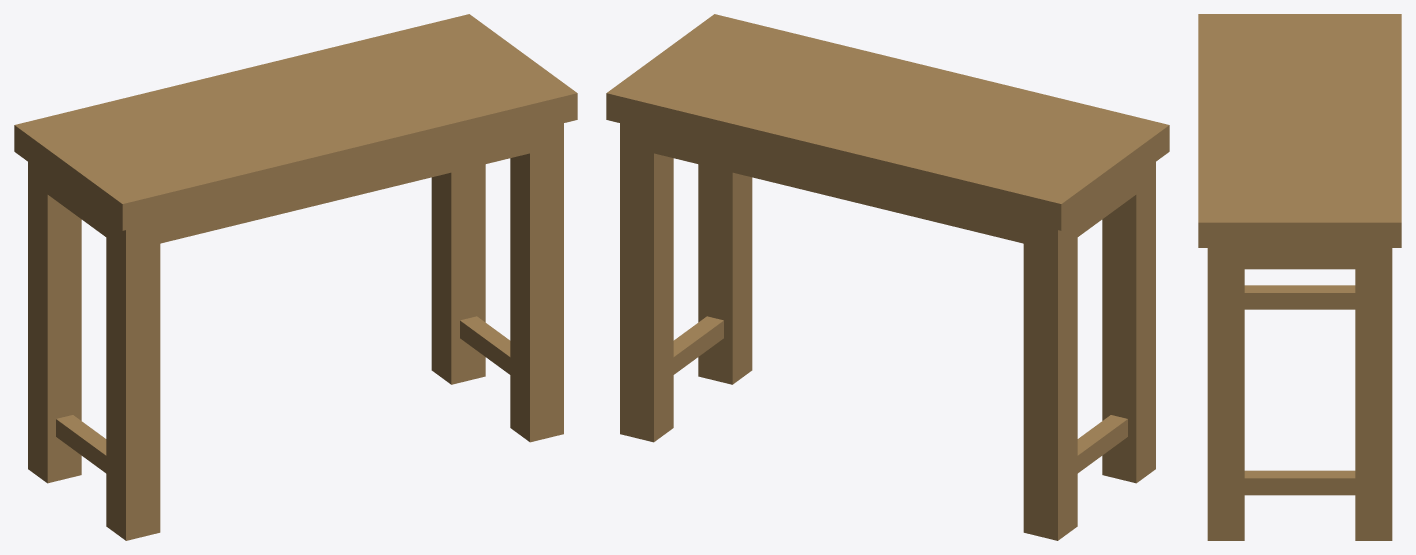
Rendered from console_table.glb.
The picture shows the model from 3 angles, left to right: view 1: azimuth 30°, elevation 25°; view 2: azimuth 150°, elevation 25°; view 3: azimuth 270°, elevation 25°; orthographic projection. The views are drawn at different scales.
Parts seen in each view (by area): view 1: console_table; view 2: console_table; view 3: console_table.
Boxes of the visible parts, bbox=[...] form: console_table: bbox=[14, 14, 577, 540]; console_table: bbox=[606, 14, 1169, 540]; console_table: bbox=[1198, 14, 1401, 540].
Bounding box in the file's own units: 1.07 × 0.7688 × 0.44.
